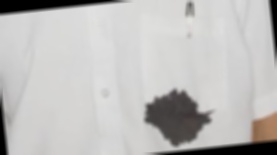ink: (145, 87, 215, 150)
